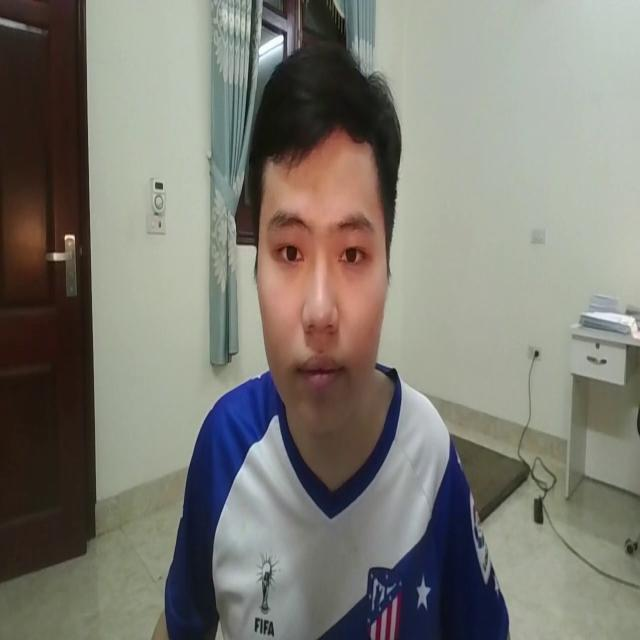student: (140, 33, 518, 640)
